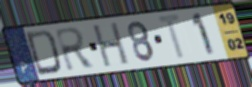1: (191, 11, 217, 58)
8: (126, 20, 156, 63)
D: (24, 28, 64, 77)
H: (92, 20, 131, 70)
R: (52, 25, 98, 74)
T: (155, 12, 187, 62)
